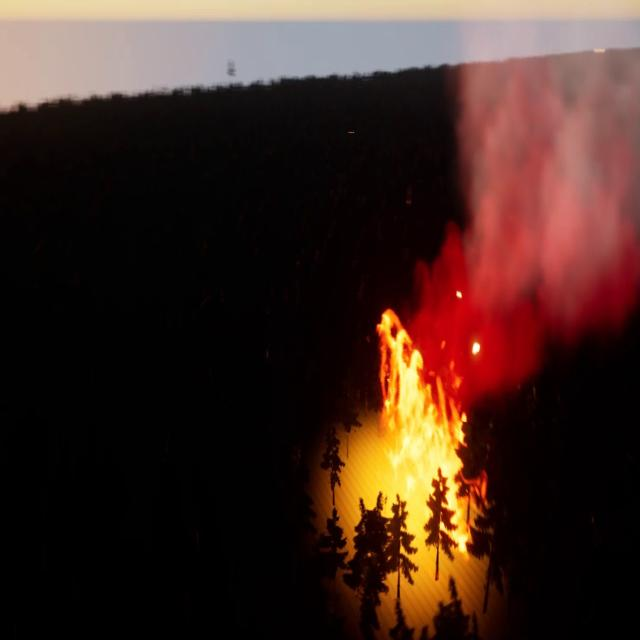fire: (374, 310, 475, 546)
smoke: (410, 21, 640, 397)
